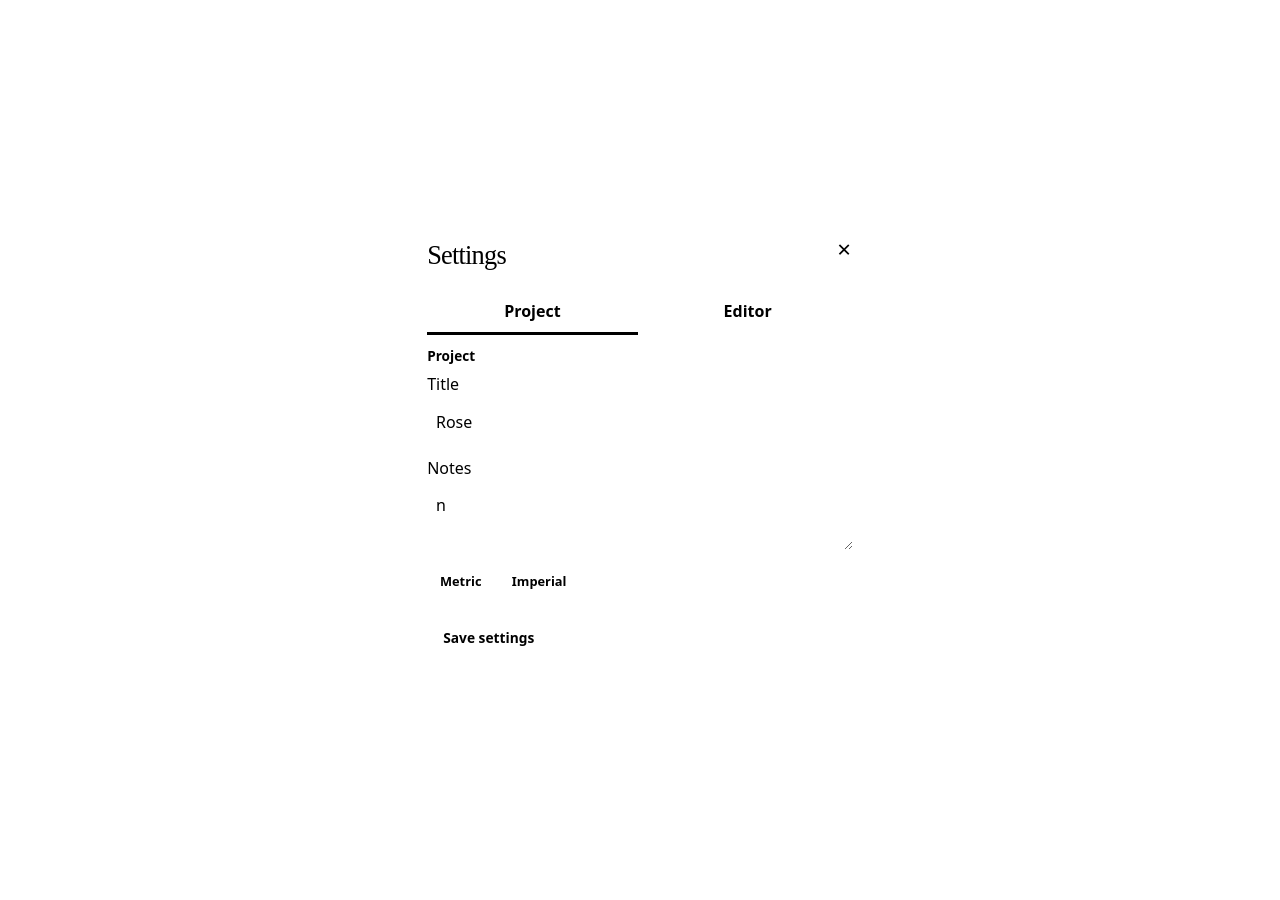
Scenario: PatternSettingsDialog › shows every editor option in all mode
This screenshot has width=1280, height=900.
Click the tab "Editor" at (748,312), box x1=642 y1=290 x2=853 y2=335
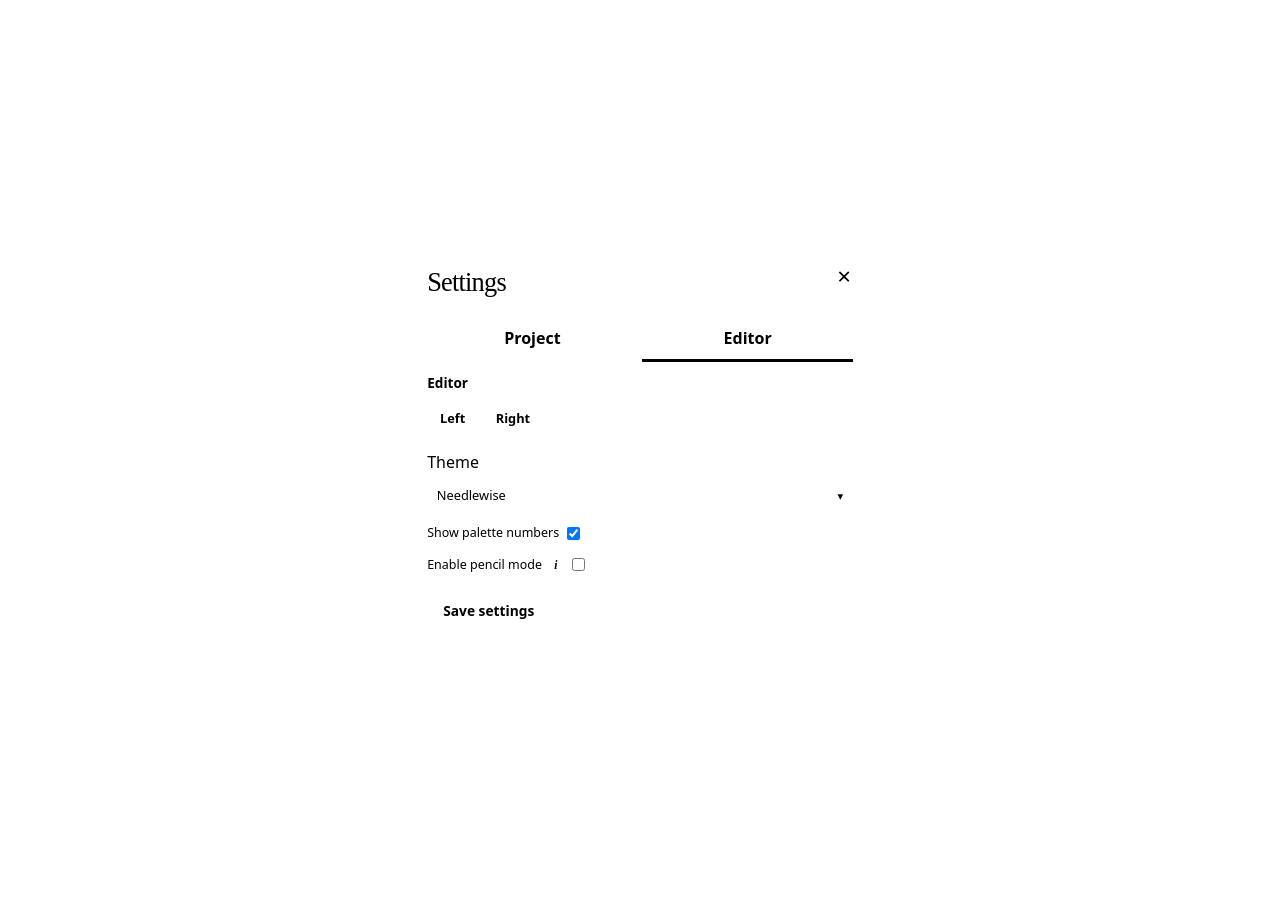
Check: the element named "Control placement" is shown, box x1=427 y1=399 x2=543 y2=438
Check: the checkbox labelled "Show palette numbers" is shown, box x1=567 y1=527 x2=580 y2=540
Check: the checkbox labelled "Enable pencil mode" is shown, box x1=572 y1=558 x2=585 y2=571
